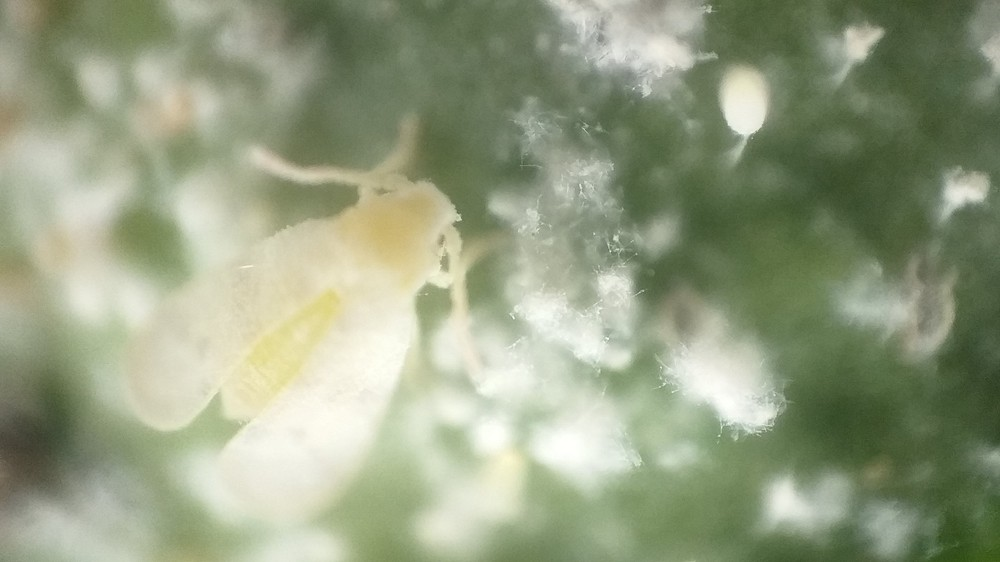Mosca Blanca: (122, 143, 501, 513)
